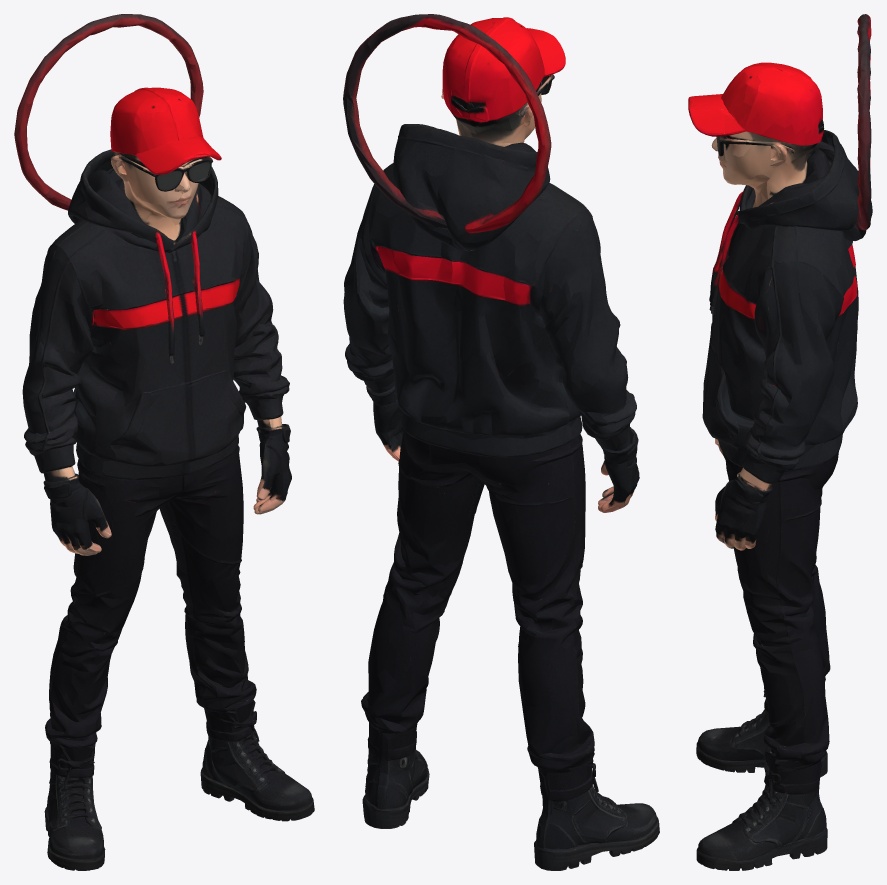
The model's file is pilote-quad-tpose.glb.
The picture shows the model from 3 angles, left to right: view 1: azimuth 30°, elevation 25°; view 2: azimuth 150°, elevation 25°; view 3: azimuth 270°, elevation 25°; orthographic projection. The views are drawn at different scales.
Bounding box in the file's own units: 0.6645 × 1.9 × 0.4055.
1 material, 1 textured.
